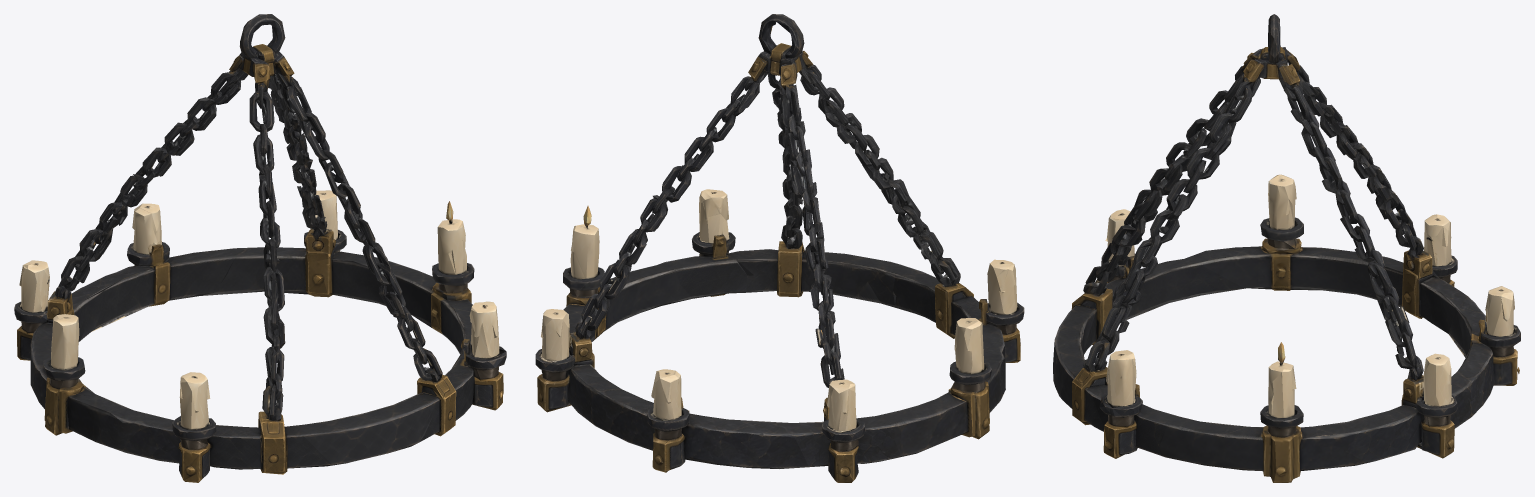
The model's file is chandelier.glb.
3 views of the same model, side by side, from view 1: azimuth 30°, elevation 25°; view 2: azimuth 150°, elevation 25°; view 3: azimuth 270°, elevation 25° (orthographic).
Parts seen in each view (by area): view 1: output_unwrapped; view 2: output_unwrapped; view 3: output_unwrapped.
Boxes of the visible parts, left/top/right/bottom form: output_unwrapped: left=14, top=14, right=506, bottom=482; output_unwrapped: left=535, top=14, right=1024, bottom=482; output_unwrapped: left=1053, top=14, right=1520, bottom=482.
Bounding box in the file's own units: 1.9 × 1.58 × 1.83.
1 material, 1 textured.
